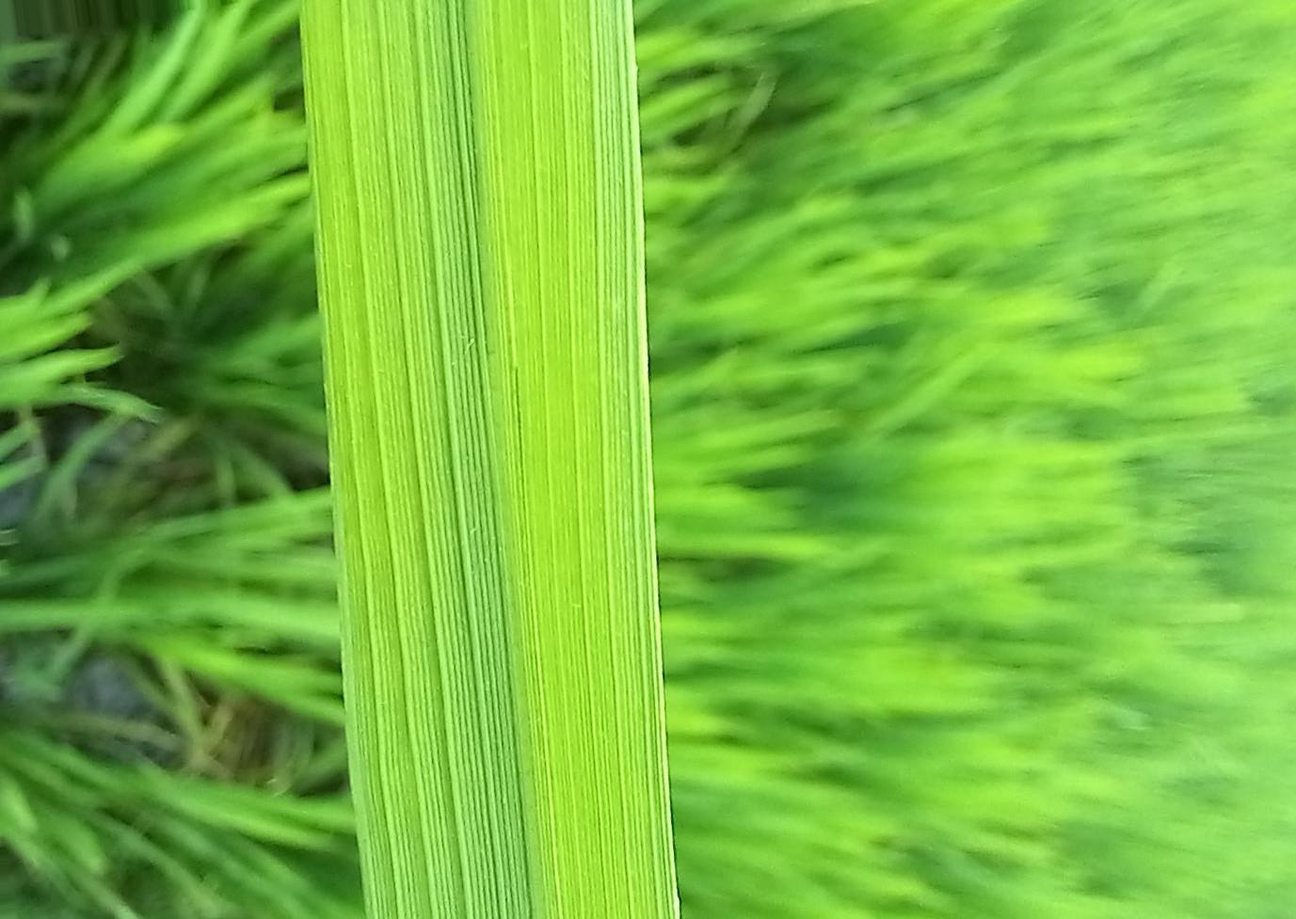Healthy: (303, 0, 678, 918)
